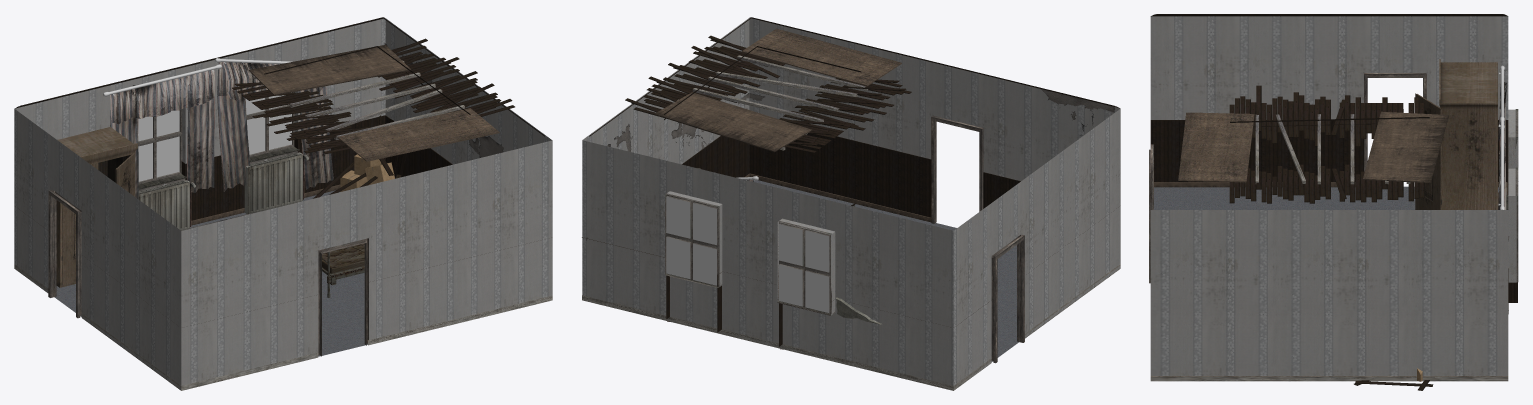
Rendered from testraum.fbx.
3 views of the same model, side by side, from view 1: azimuth 30°, elevation 25°; view 2: azimuth 150°, elevation 25°; view 3: azimuth 270°, elevation 25° (orthographic). The views are drawn at different scales.
Parts seen in each view (by area): view 1: Cylinder_059; view 2: Cylinder_059; view 3: Cylinder_059.
Boxes of the visible parts, x1,y1,x2,y2 form: Cylinder_059: (14,17,552,390); Cylinder_059: (582,17,1120,390); Cylinder_059: (1149,14,1518,390).
Bounding box in the file's own units: 46.9 × 20.95 × 35.42.
